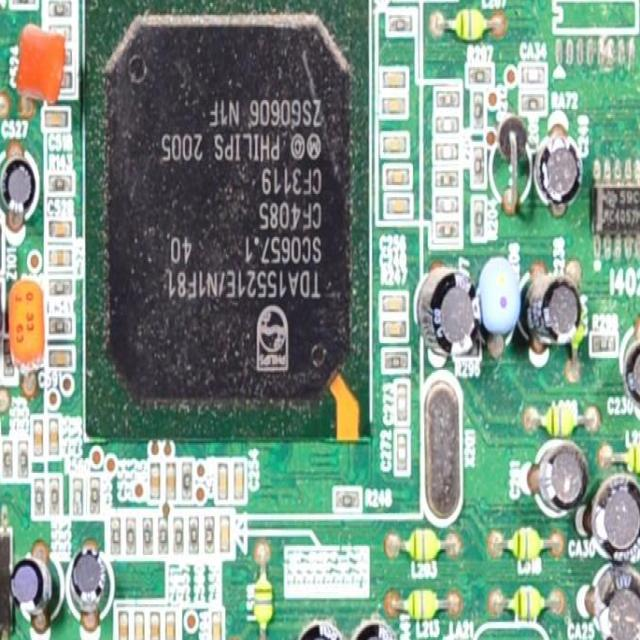IC: (106, 12, 356, 400), (591, 157, 640, 258), (0, 514, 16, 640)
capacitor: (379, 97, 408, 117), (381, 68, 405, 90), (386, 194, 410, 216), (383, 134, 408, 155), (396, 436, 409, 474), (219, 512, 230, 554), (150, 466, 162, 504), (386, 172, 411, 190), (49, 418, 60, 457), (48, 221, 73, 238), (396, 382, 406, 424), (45, 110, 68, 128), (49, 350, 72, 368), (233, 462, 243, 503), (381, 321, 408, 336), (166, 462, 176, 502), (381, 297, 405, 313), (50, 249, 72, 266), (218, 461, 227, 502), (34, 421, 44, 457), (118, 610, 130, 640), (148, 610, 160, 640), (211, 608, 221, 640), (133, 611, 144, 640), (165, 614, 175, 640)
resistor: (332, 486, 362, 513), (472, 200, 486, 240), (472, 91, 485, 131), (124, 519, 138, 556), (436, 88, 459, 110), (47, 478, 61, 514), (382, 350, 408, 369), (182, 462, 195, 500), (89, 474, 102, 512), (521, 92, 544, 113), (387, 13, 411, 33), (436, 168, 460, 188), (472, 146, 483, 189), (32, 478, 45, 514), (141, 518, 154, 554), (187, 516, 199, 555), (109, 516, 120, 556), (48, 280, 72, 298), (49, 318, 74, 335), (2, 440, 13, 478), (173, 516, 184, 554), (157, 516, 168, 554), (49, 0, 72, 18), (435, 116, 458, 134), (435, 145, 458, 163), (18, 442, 28, 481), (434, 222, 457, 238), (468, 67, 492, 82), (73, 479, 83, 514), (204, 518, 214, 552), (50, 176, 70, 192), (437, 198, 459, 212), (11, 0, 36, 6)
